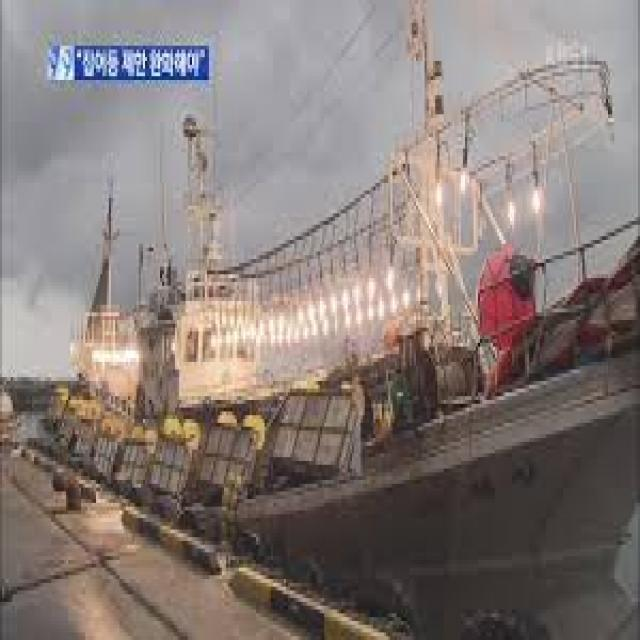Ship: (46, 1, 640, 637)
